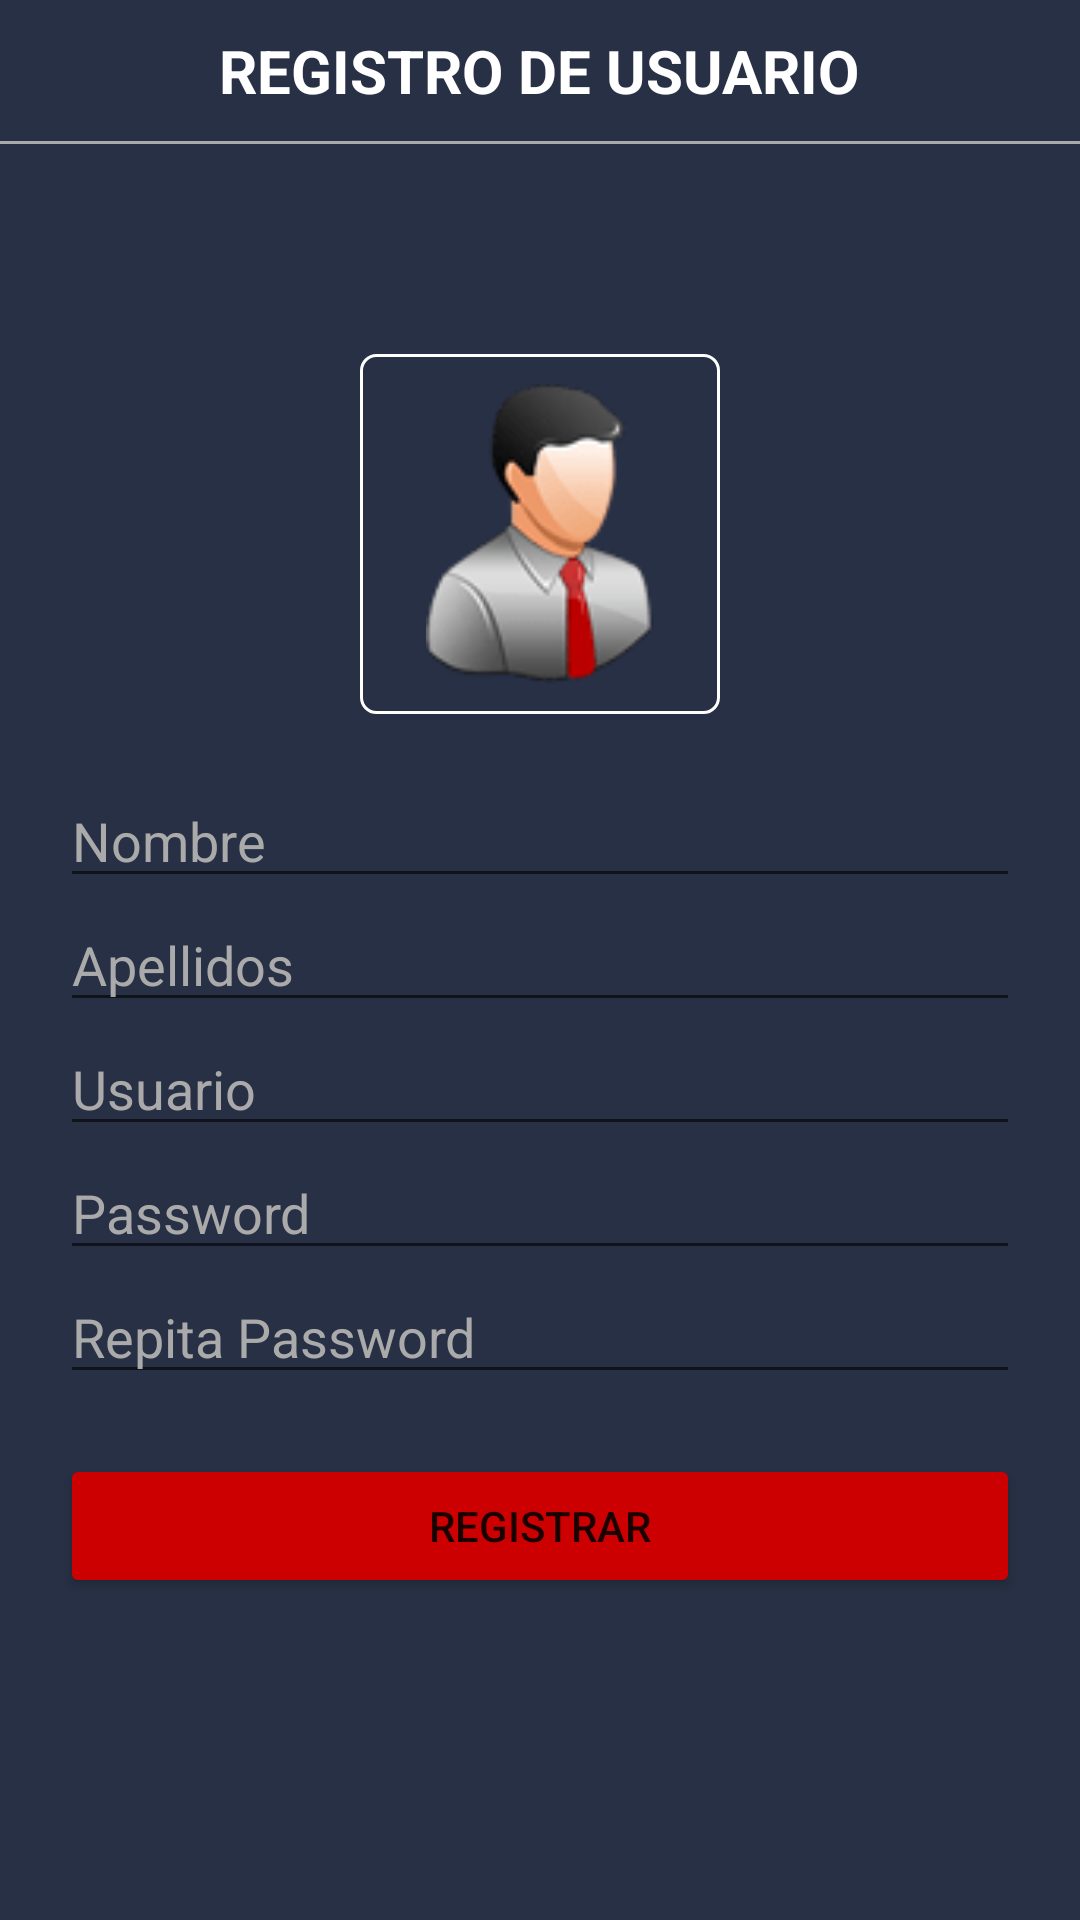

Locate icon controls on the screen. Image size 1080*1920, boxes as {"left": x1, "top": y1, "right": x2, "bottom": y2}.
user: {"left": 426, "top": 388, "right": 651, "bottom": 680}
